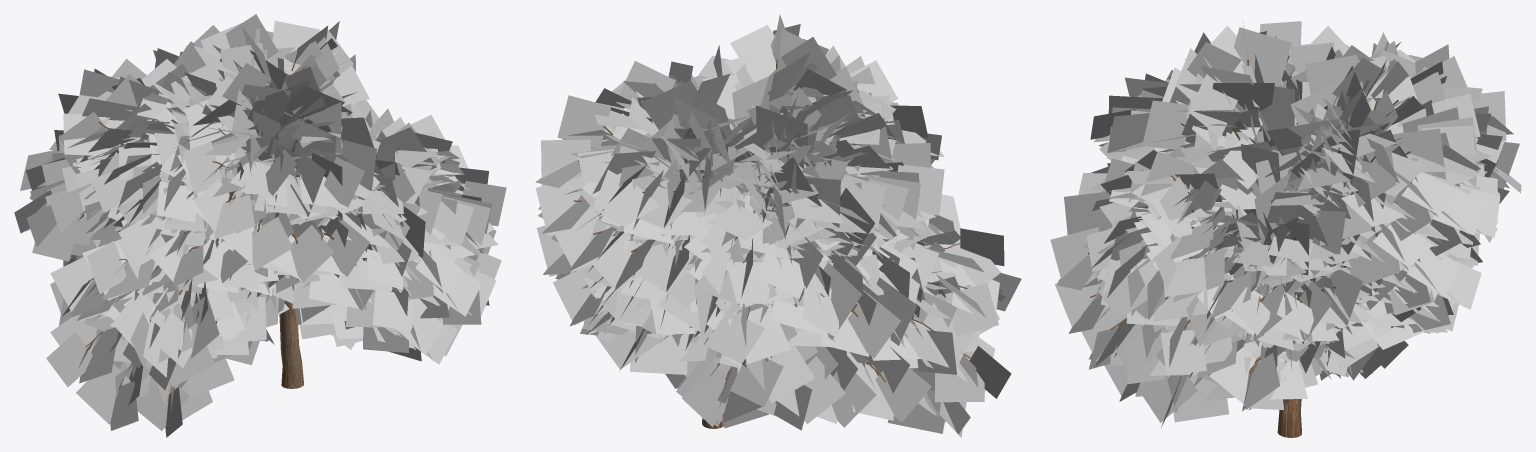
Rendered from tree2.fbx.
3 views of the same model, side by side, from view 1: azimuth 30°, elevation 25°; view 2: azimuth 150°, elevation 25°; view 3: azimuth 270°, elevation 25° (orthographic). The views are drawn at different scales.
Visible parts, largest first — view 1: tree2; view 2: tree2; view 3: tree2.
Part boxes in pixels (x1=…): tree2: x1=14, y1=14, x2=506, y2=437; tree2: x1=535, y1=14, x2=1021, y2=437; tree2: x1=1050, y1=18, x2=1521, y2=437.
Bounding box in the file's own units: 1.15 × 0.9291 × 1.04.
